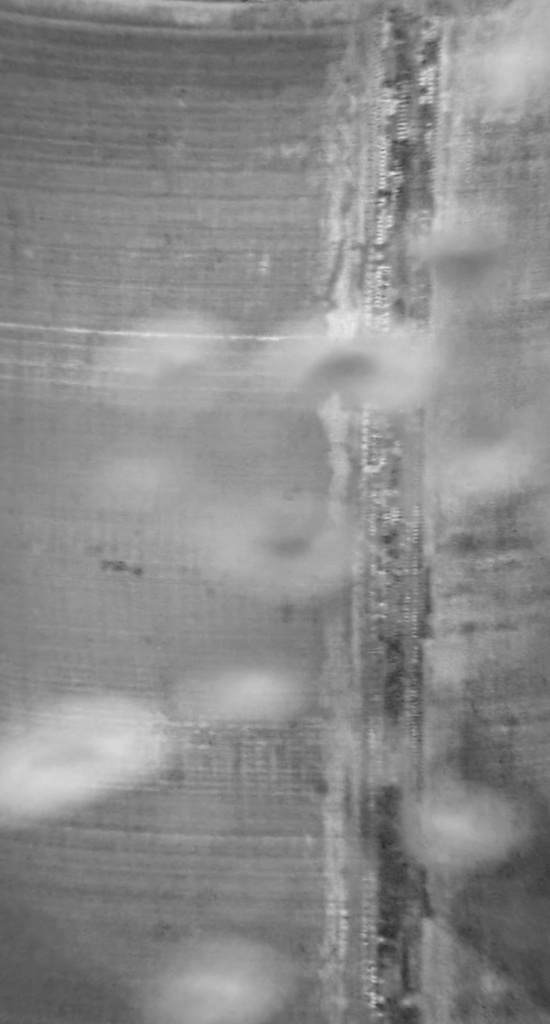splice: (341, 1, 438, 1021)
